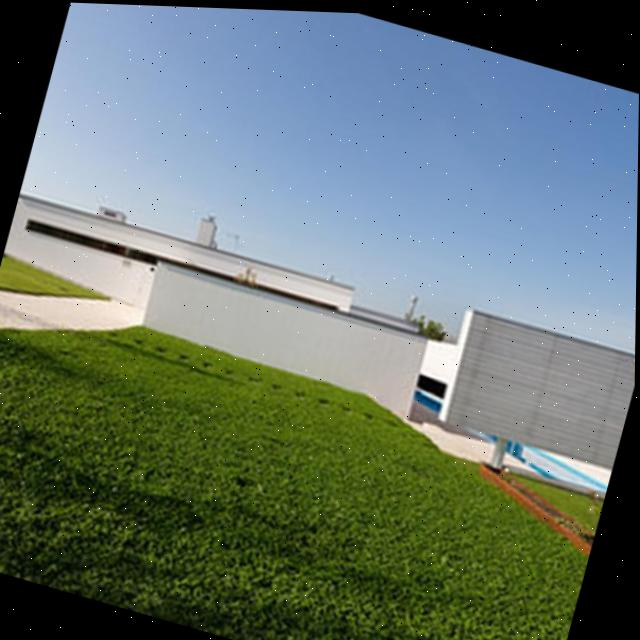building: (0, 163, 450, 435), (430, 290, 636, 478)
